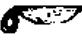Basket: (1, 3, 82, 36)
